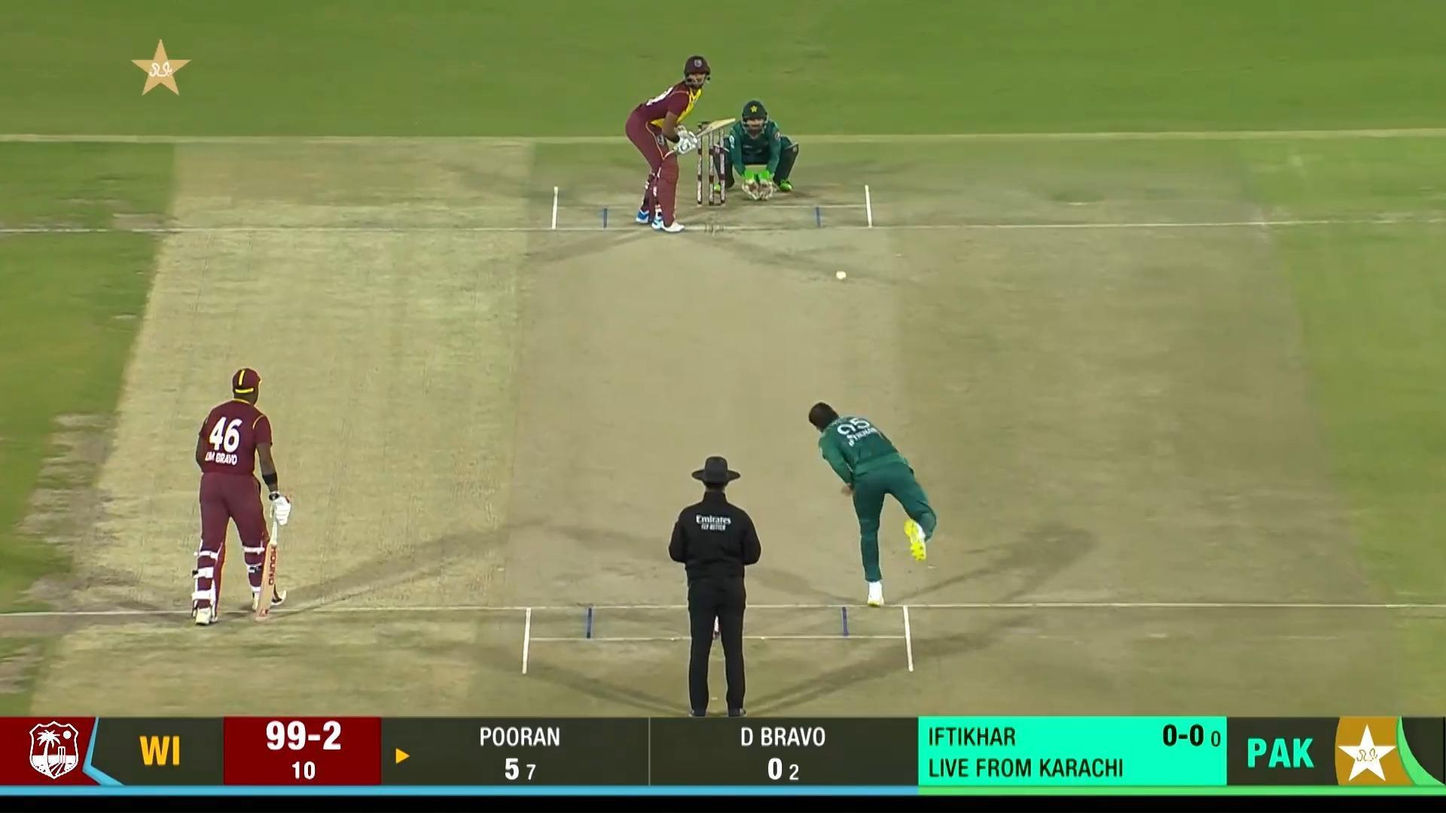BM 1: (625, 55, 736, 233)
BO: (808, 399, 938, 607)
